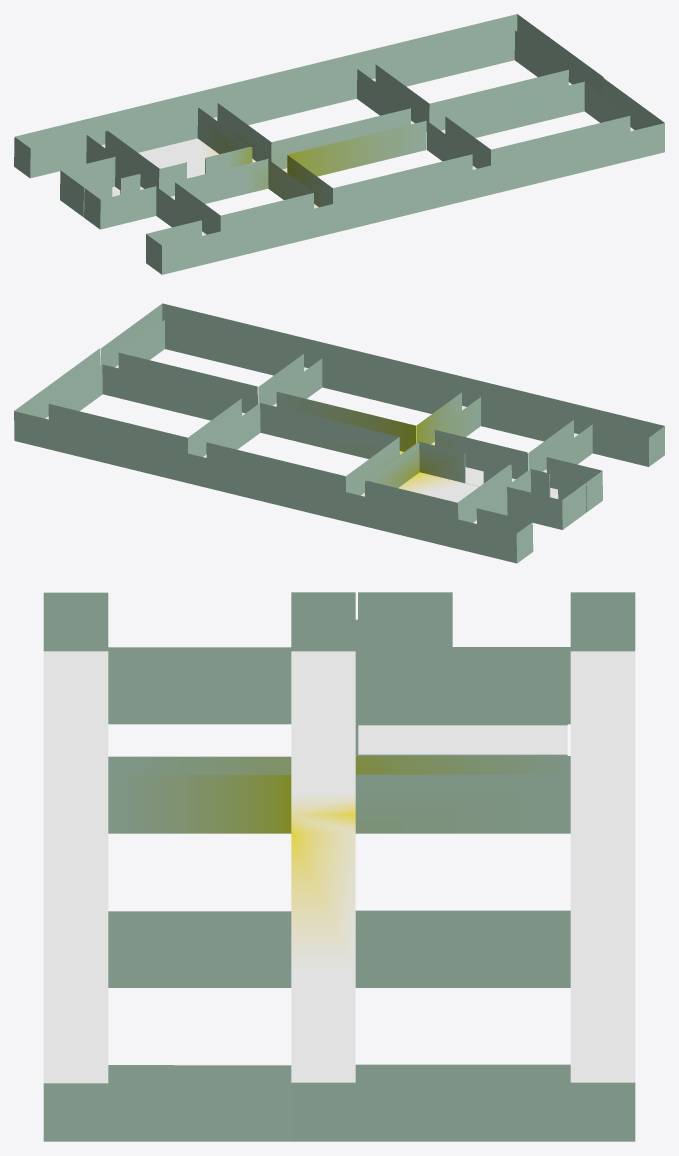
The model's file is corridor5.dae.
3 views of the same model, one above another, from view 1: azimuth 30°, elevation 25°; view 2: azimuth 150°, elevation 25°; view 3: azimuth 270°, elevation 25° (orthographic). The views are drawn at different scales.
Visible parts, largest first — view 1: walls, floor; view 2: walls, floor; view 3: walls, floor.
Part boxes in pixels (<box>): walls: <box>14,14,664,274</box>; floor: <box>101,78,634,235</box>; walls: <box>14,303,664,563</box>; floor: <box>45,365,578,523</box>; walls: <box>43,592,635,1141</box>; floor: <box>43,651,635,1083</box>.
Size of the model in its own units: 53.96 by 27.49 by 3.05.
